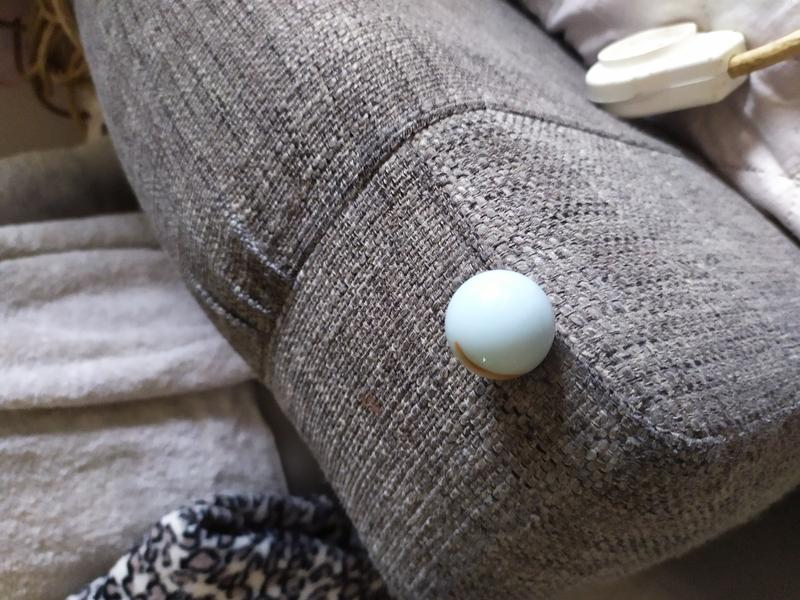Warning: (442, 266, 559, 383)
